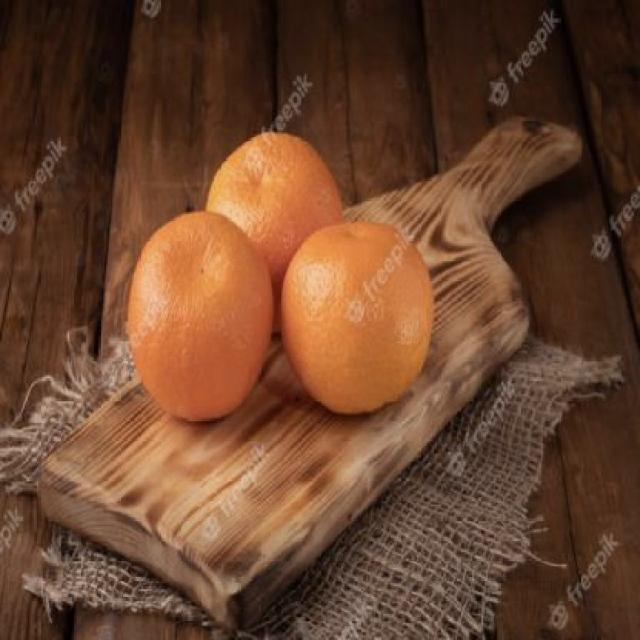Jeruk Sudah Matang: (124, 210, 270, 427), (283, 218, 434, 414), (204, 130, 347, 316)
